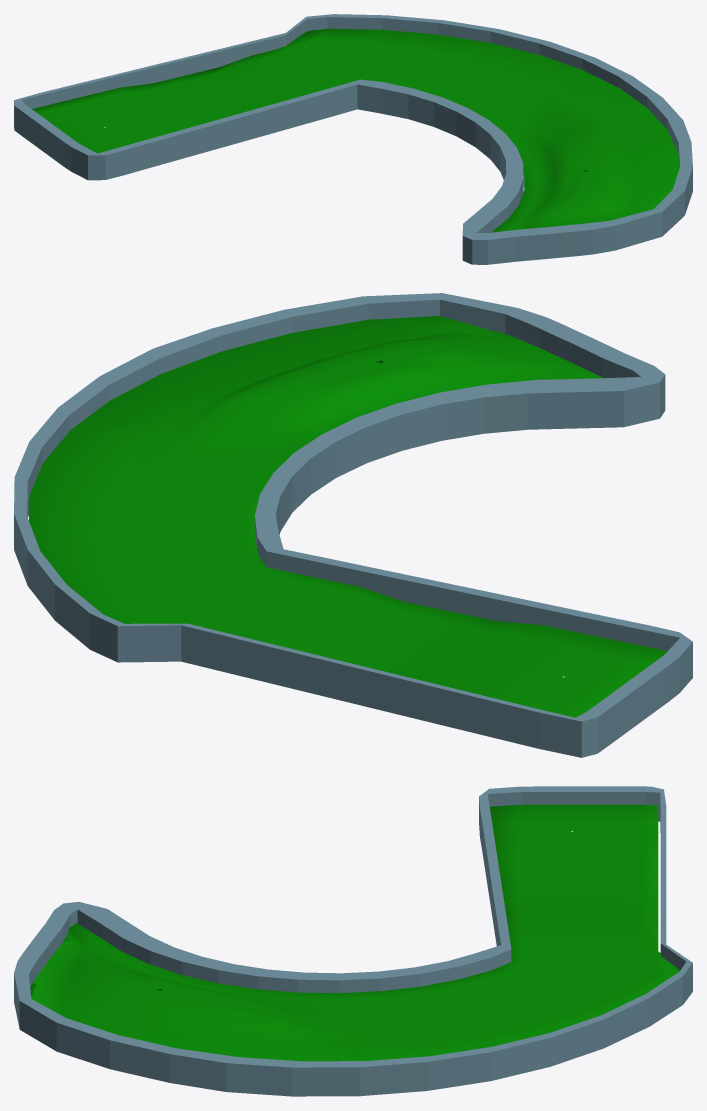
3 views of the same model, one above another, from view 1: azimuth 30°, elevation 25°; view 2: azimuth 150°, elevation 25°; view 3: azimuth 270°, elevation 25° (orthographic). The views are drawn at different scales.
Parts seen in each view (by area): view 1: Grass, Border; view 2: Grass, Border; view 3: Grass, Border.
Part boxes in pixels (box(x1,y1,x2,y2)): Grass: box(32, 28, 679, 232); Border: box(14, 14, 692, 264); Grass: box(29, 316, 667, 717); Border: box(14, 293, 692, 757); Grass: box(30, 804, 679, 1061); Border: box(14, 786, 692, 1096).
Size of the model in its own units: 13.84 by 0.6936 by 14.12.
